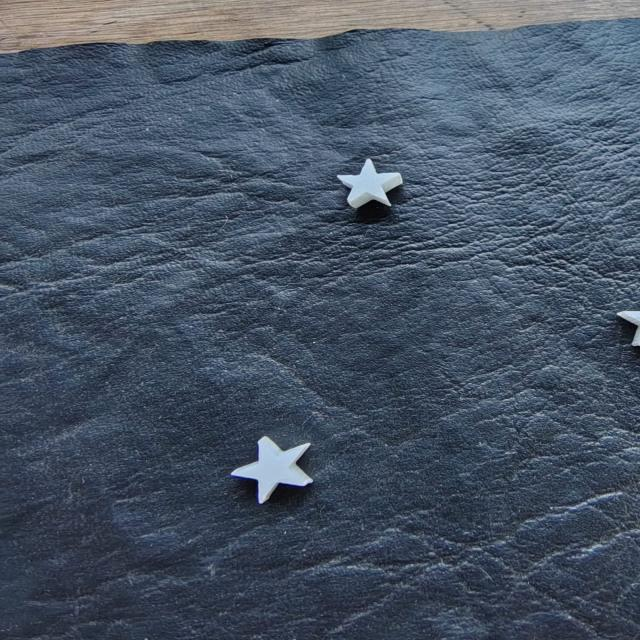estrellas: (234, 440, 306, 502), (335, 160, 397, 200)
